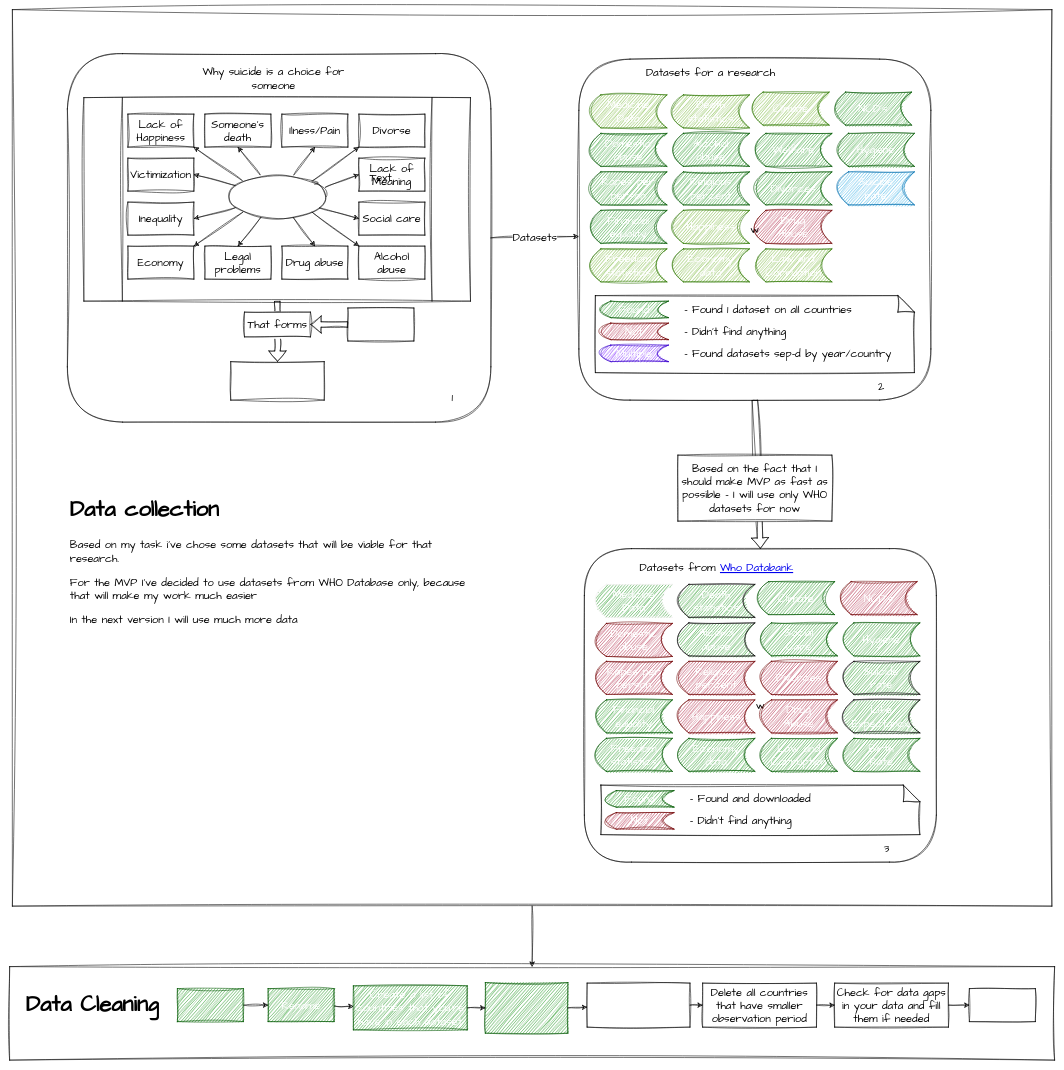
Image size: 1064x1070. Some labels were removed from this diagram. Each missing label, with the centre of its shape:
"Choose a period that you're interested in" goes at point (638, 1005).
"Climate?" goes at point (380, 324).
"Get names of countries with void lanes" goes at point (526, 1007).
"Main Suicide reasons" goes at point (277, 196).
"Save" goes at point (1002, 1005).
"Suicide rate by country" goes at point (277, 380).
"Unbox" goes at point (210, 1005).
